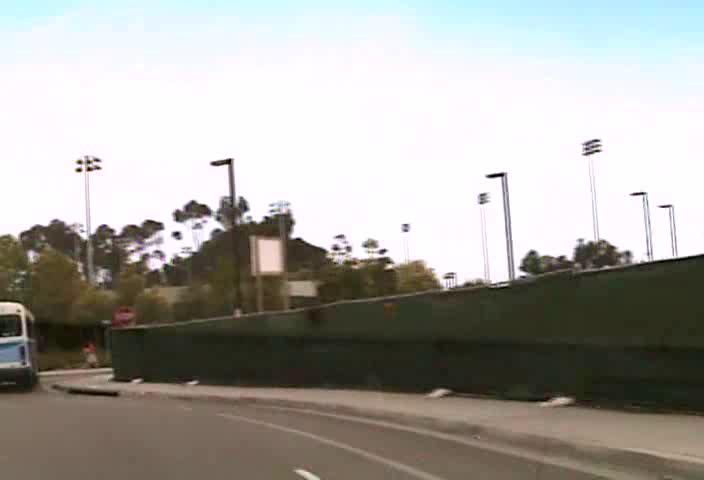stop: (110, 304, 135, 328)
